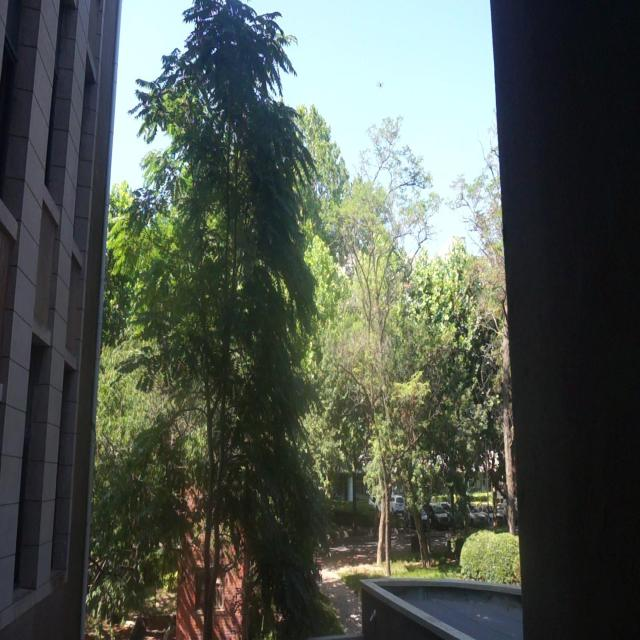drone: (374, 74, 386, 94)
